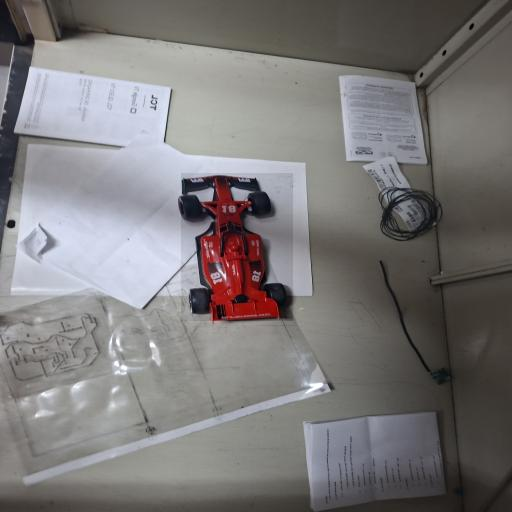carro: (181, 173, 293, 321)
